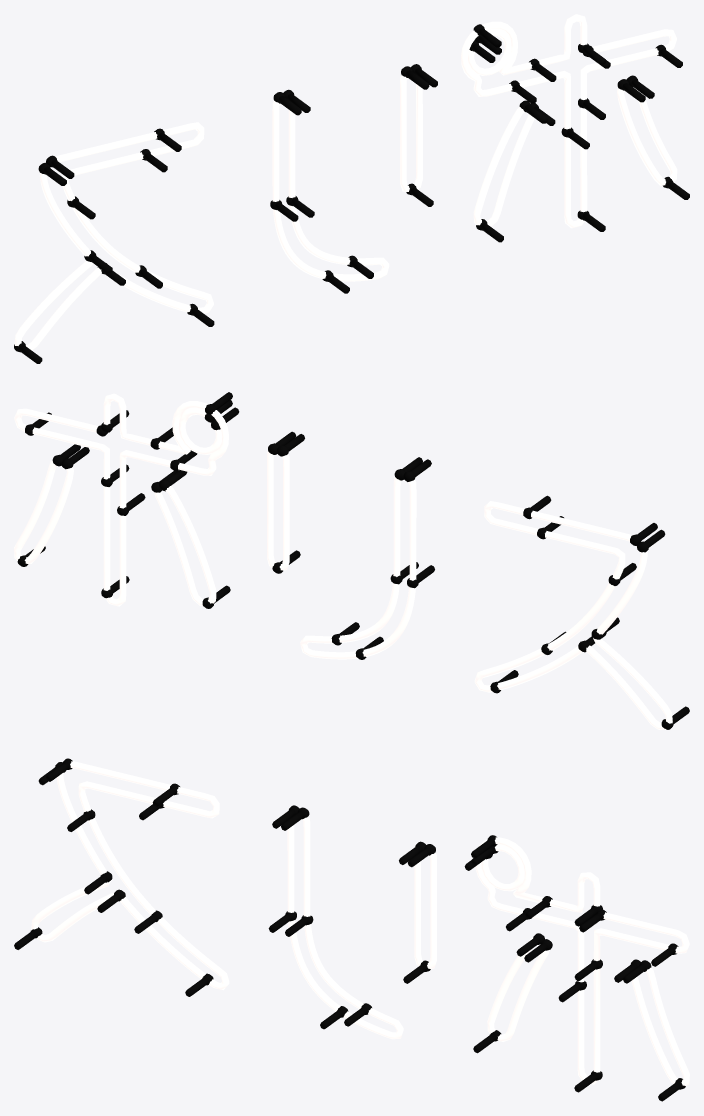
Rendered from neon_porisu.fbx.
3 renders of one model, top to bottom at view 1: azimuth 30°, elevation 25°; view 2: azimuth 150°, elevation 25°; view 3: azimuth 330°, elevation 25°, orthographic.
Visible parts, largest first — view 1: NeonEnglish; view 2: NeonEnglish; view 3: NeonEnglish.
Boxes of the visible parts, bbox=[...] form: NeonEnglish: bbox=[14, 14, 689, 363]; NeonEnglish: bbox=[14, 392, 689, 729]; NeonEnglish: bbox=[14, 758, 689, 1101].
Bounding box in the file's own units: 373 × 124 × 21.29.
